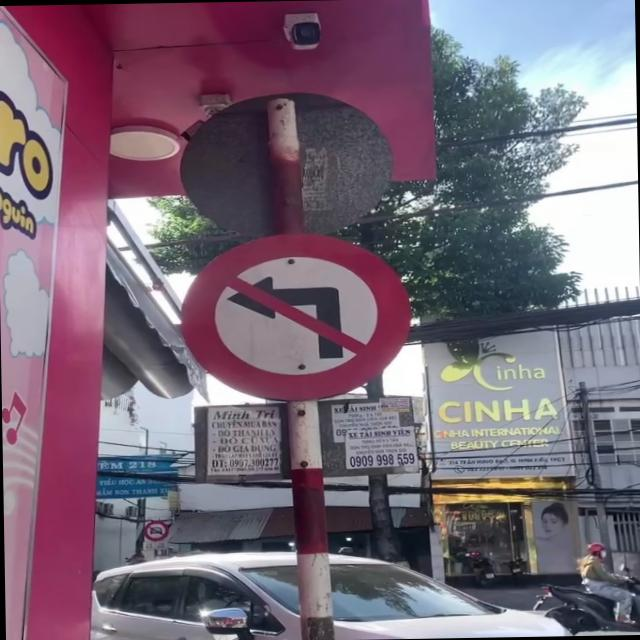Cam_Re_Trai: (176, 227, 413, 400)
